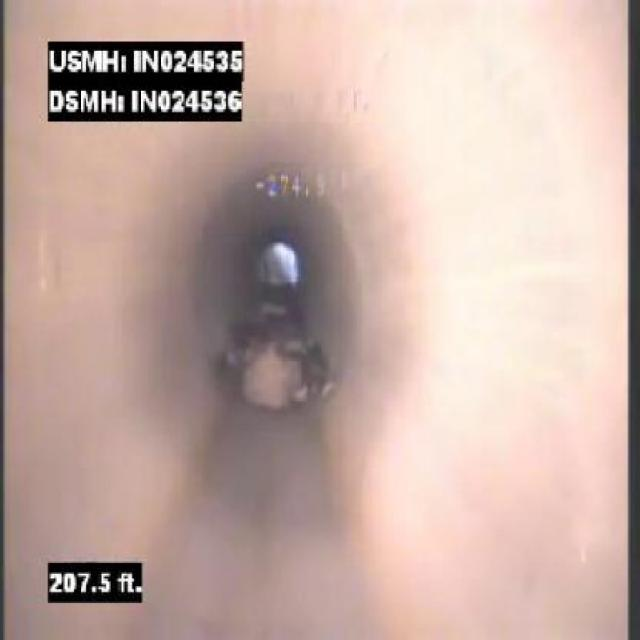Debris: (219, 320, 346, 426)
